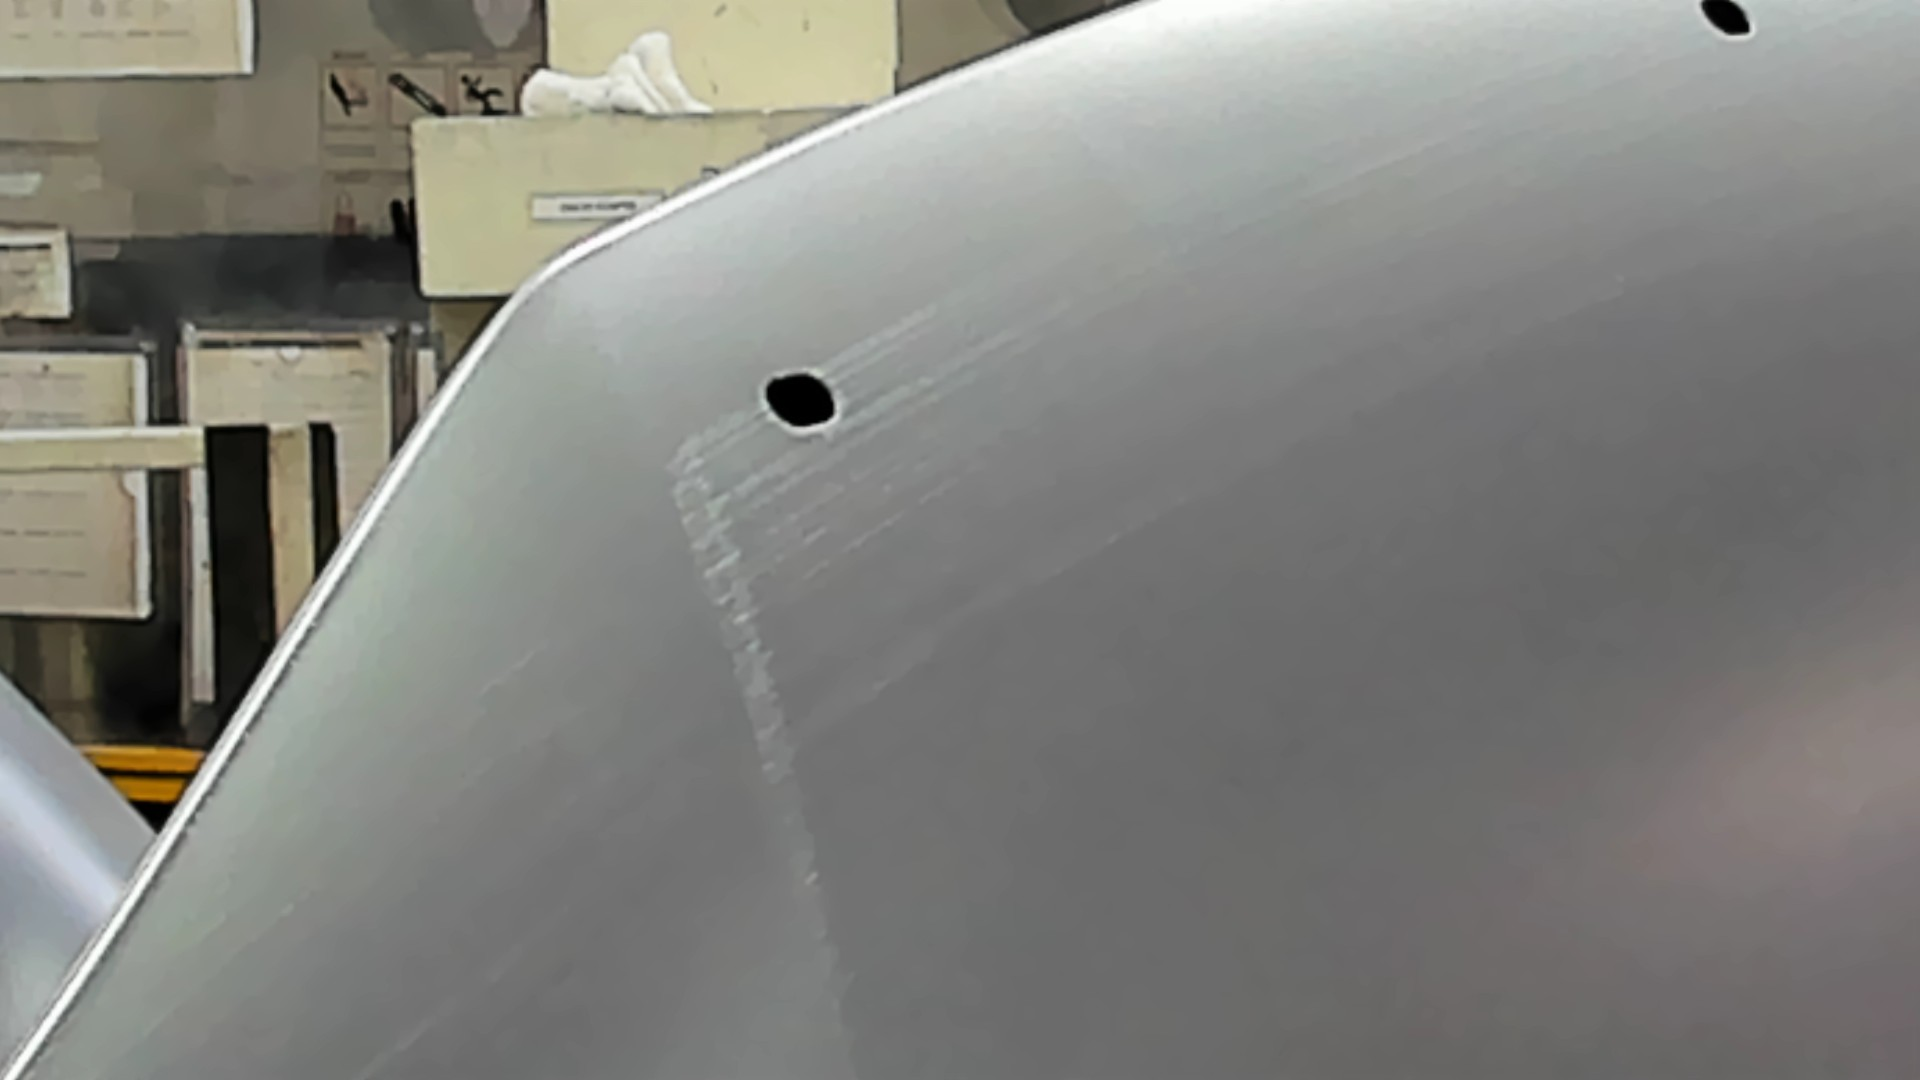amorfo: (756, 367, 847, 435), (1692, 1, 1760, 42)
